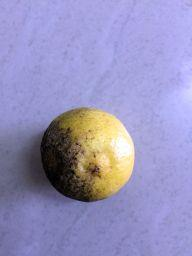lemon: (39, 106, 137, 203)
